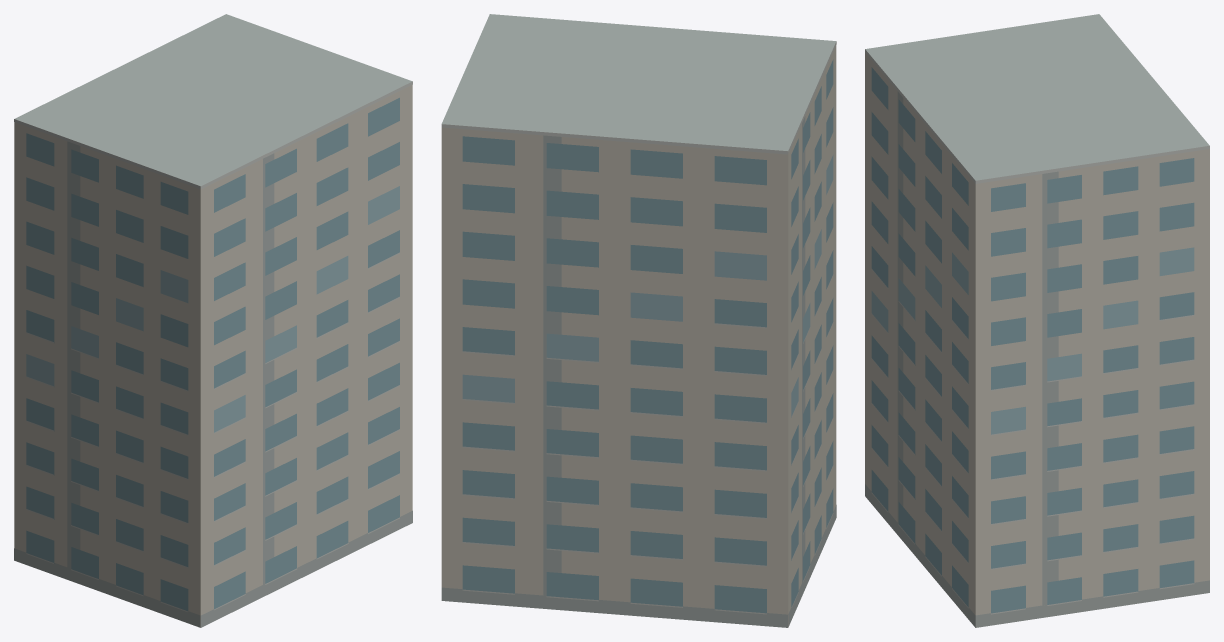
File: residential-594aa739-95d3-45be-8e0b-286e44b97745.glb
3 views of the same model, side by side, from view 1: azimuth 30°, elevation 25°; view 2: azimuth 150°, elevation 25°; view 3: azimuth 270°, elevation 25° (orthographic). The views are drawn at different scales.
Visible parts, largest first — view 1: residential-594aa739-95d3-45be-8e0b-286e44b97745.tmp; view 2: residential-594aa739-95d3-45be-8e0b-286e44b97745.tmp; view 3: residential-594aa739-95d3-45be-8e0b-286e44b97745.tmp.
Boxes of the visible parts, bbox=[...] form: residential-594aa739-95d3-45be-8e0b-286e44b97745.tmp: bbox=[14, 14, 412, 627]; residential-594aa739-95d3-45be-8e0b-286e44b97745.tmp: bbox=[441, 14, 836, 627]; residential-594aa739-95d3-45be-8e0b-286e44b97745.tmp: bbox=[865, 14, 1209, 627].
Bounding box in the file's own units: 27.2 × 34 × 23.77.
